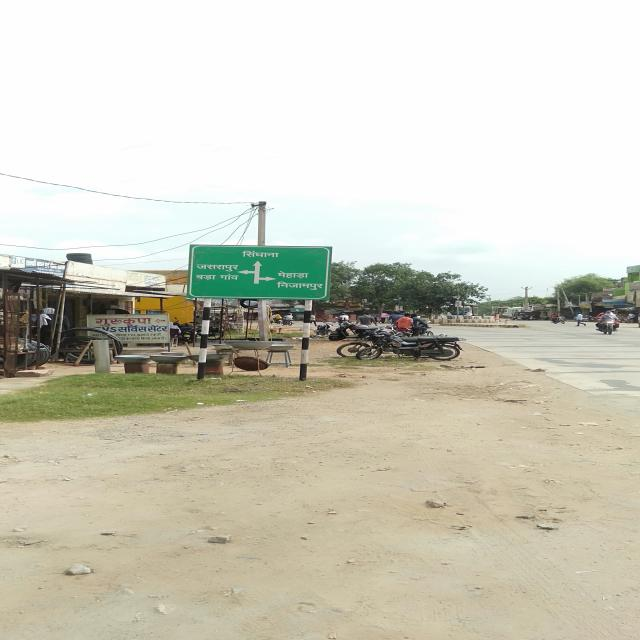GENERAL: (186, 244, 333, 300)
